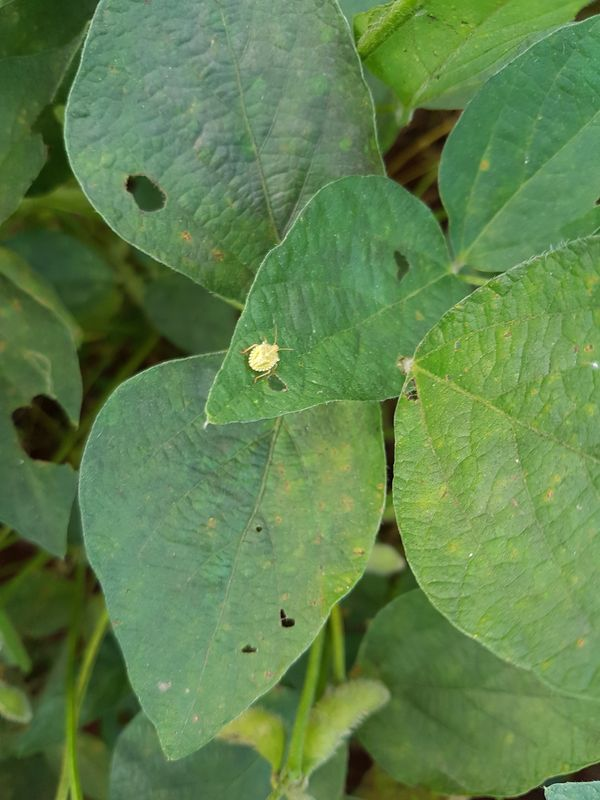Euschistus_heros_ninfa: (239, 323, 300, 391)
